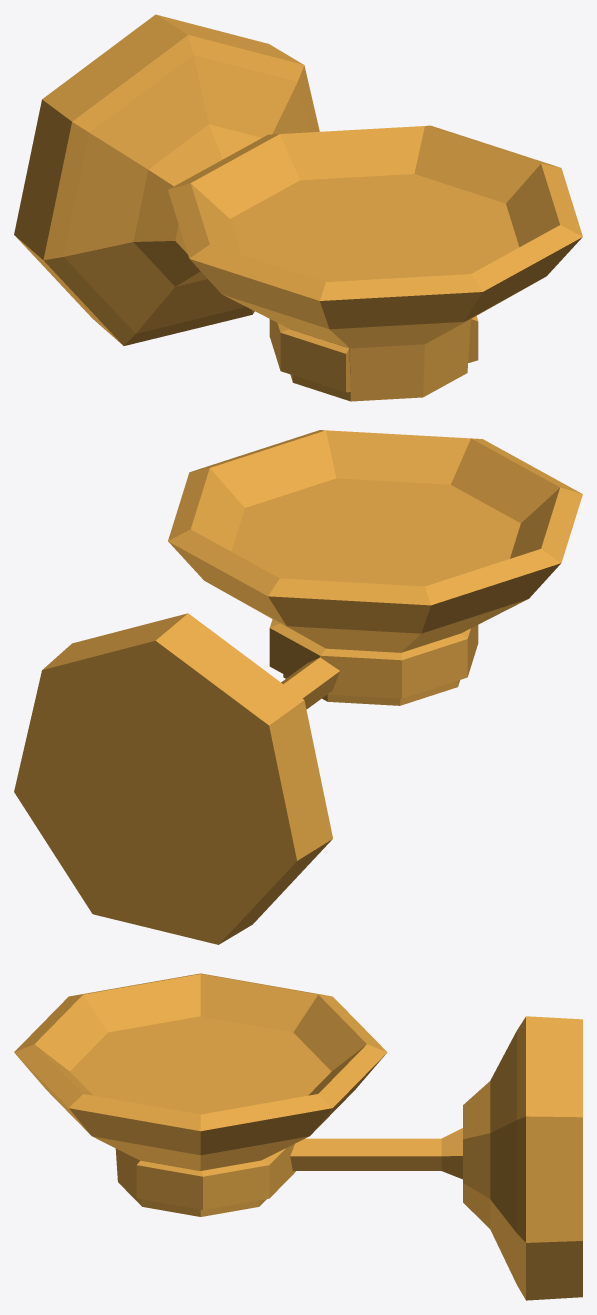
File: SM_Soap_Holder_Victorian_Empty.fbx
The picture shows the model from 3 angles, top to bottom: view 1: azimuth 30°, elevation 25°; view 2: azimuth 150°, elevation 25°; view 3: azimuth 270°, elevation 25°; orthographic projection. The views are drawn at different scales.
Visible parts, largest first — view 1: soap-holder-victorian-empty; view 2: soap-holder-victorian-empty; view 3: soap-holder-victorian-empty.
Boxes of the visible parts, x1,y1,x2,y2 form: soap-holder-victorian-empty: [14, 14, 582, 401]; soap-holder-victorian-empty: [14, 430, 582, 944]; soap-holder-victorian-empty: [14, 973, 582, 1300].
Bounding box in the file's own units: 0.1643 × 0.1247 × 0.2502.
